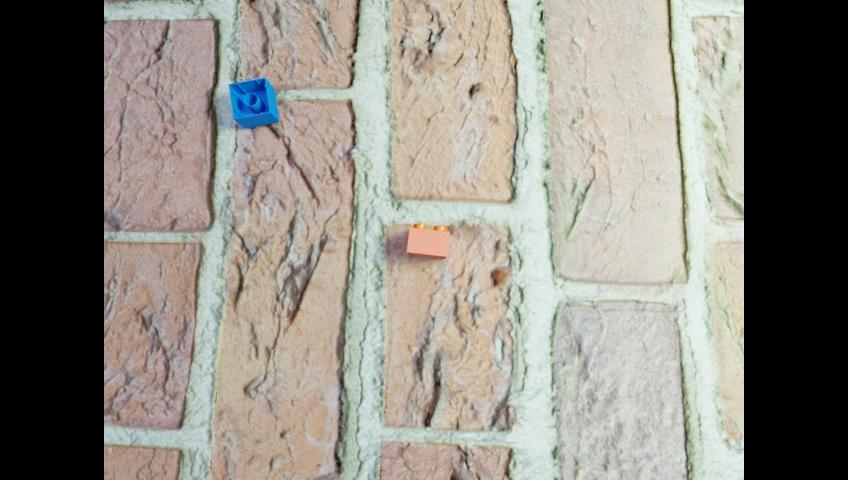2x2_blue: (228, 77, 278, 128)
2x2_orange: (407, 223, 448, 258)
